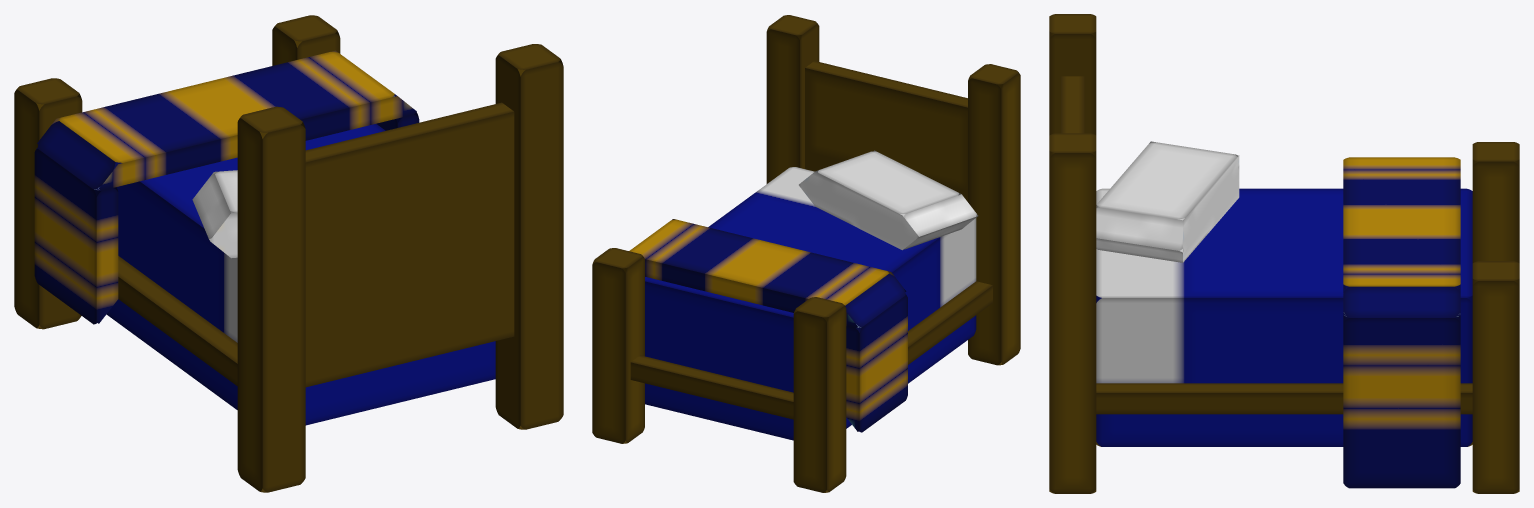
File: bed.fbx
The picture shows the model from 3 angles, left to right: view 1: azimuth 30°, elevation 25°; view 2: azimuth 150°, elevation 25°; view 3: azimuth 270°, elevation 25°; orthographic projection. The views are drawn at different scales.
Parts seen in each view (by area): view 1: cuboid_8, cuboid_3, cuboid_10, cuboid, cuboid_4, cuboid_11, cuboid_1, cuboid_6, cuboid_9, cuboid_2; view 2: cuboid, cuboid_8, cuboid_10, cuboid_3, cuboid_9, cuboid_1, cuboid_2, cuboid_4, cuboid_11, cuboid_7, cuboid_6; view 3: cuboid, cuboid_12, cuboid_10, cuboid_4, cuboid_9, cuboid_2, cuboid_5, cuboid_1, cuboid_3, cuboid_8.
Boxes of the visible parts, x1,y1,x2,y2 form: cuboid_8: [305, 102, 514, 387]; cuboid_3: [237, 106, 305, 492]; cuboid_10: [37, 50, 416, 190]; cuboid: [106, 124, 495, 425]; cuboid_4: [495, 44, 563, 429]; cuboid_11: [34, 148, 118, 324]; cuboid_1: [14, 78, 82, 329]; cuboid_6: [118, 256, 237, 385]; cuboid_9: [192, 170, 237, 258]; cuboid_2: [272, 15, 340, 65]; cuboid: [645, 167, 976, 440]; cuboid_8: [805, 61, 967, 201]; cuboid_10: [629, 219, 906, 327]; cuboid_3: [968, 64, 1020, 365]; cuboid_9: [799, 150, 978, 250]; cuboid_1: [793, 297, 846, 492]; cuboid_2: [592, 248, 644, 443]; cuboid_4: [766, 15, 819, 183]; cuboid_11: [846, 294, 907, 432]; cuboid_7: [630, 355, 793, 419]; cuboid_6: [908, 281, 992, 364]; cuboid: [1096, 188, 1472, 446]; cuboid_12: [1343, 313, 1460, 488]; cuboid_10: [1343, 157, 1460, 317]; cuboid_4: [1049, 133, 1096, 493]; cuboid_9: [1096, 141, 1239, 262]; cuboid_2: [1472, 261, 1519, 493]; cuboid_5: [1096, 383, 1472, 414]; cuboid_1: [1472, 142, 1519, 263]; cuboid_3: [1049, 14, 1096, 135]; cuboid_8: [1061, 76, 1084, 133].
Bounding box in the file's own units: 93.75 × 100 × 125.
1 material, 1 textured.
